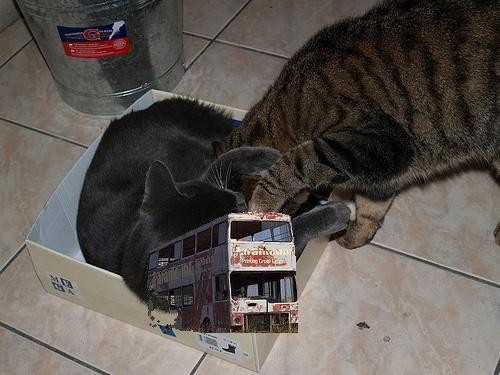tampered: (148, 212, 298, 333)
